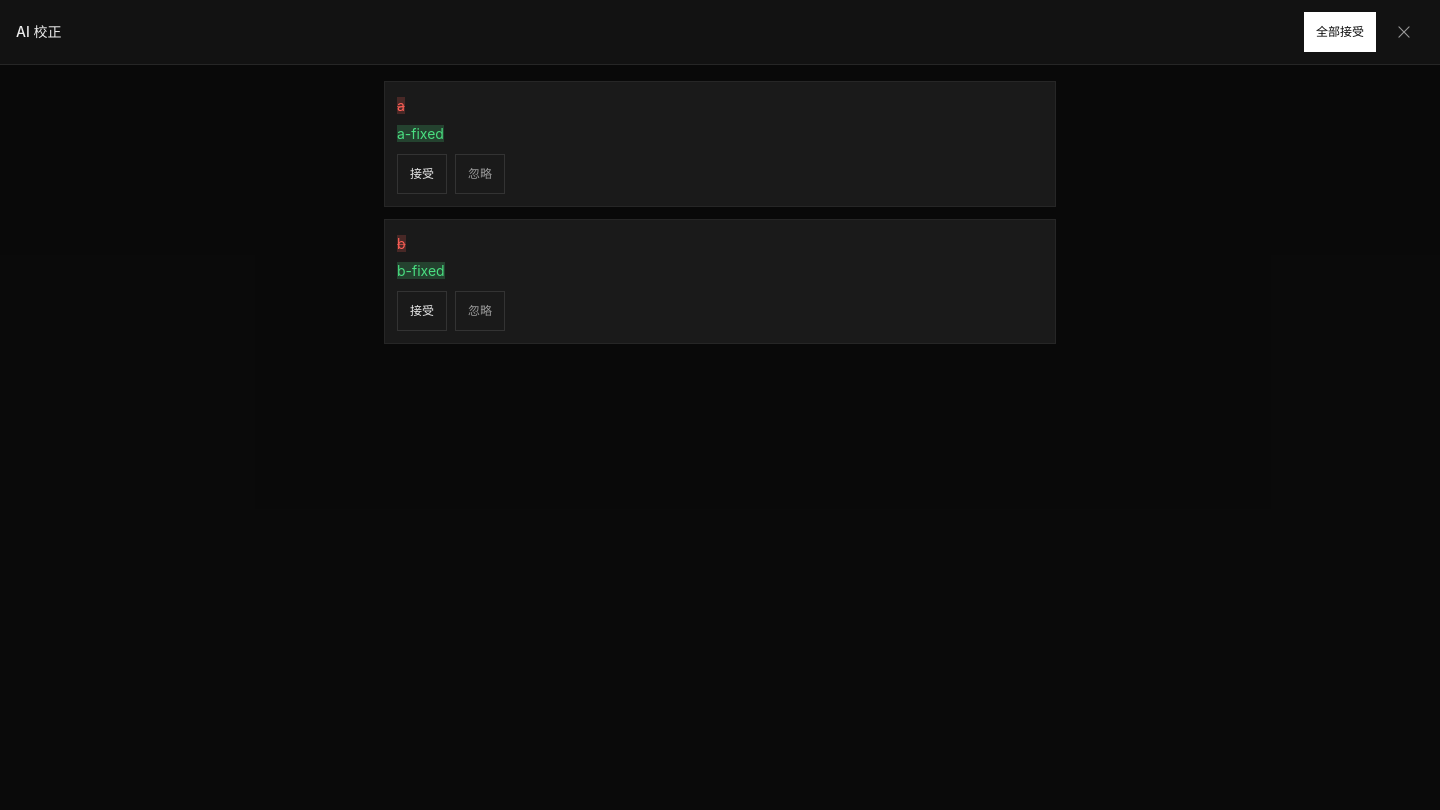
Test: CorrectionReview › 全部接受 accepts every pending row in one shot
The width and height of the screenshot is (1440, 810).
Click the button with test id "btn-correction-accept-all": (1340, 32) [1304,12,1376,52]
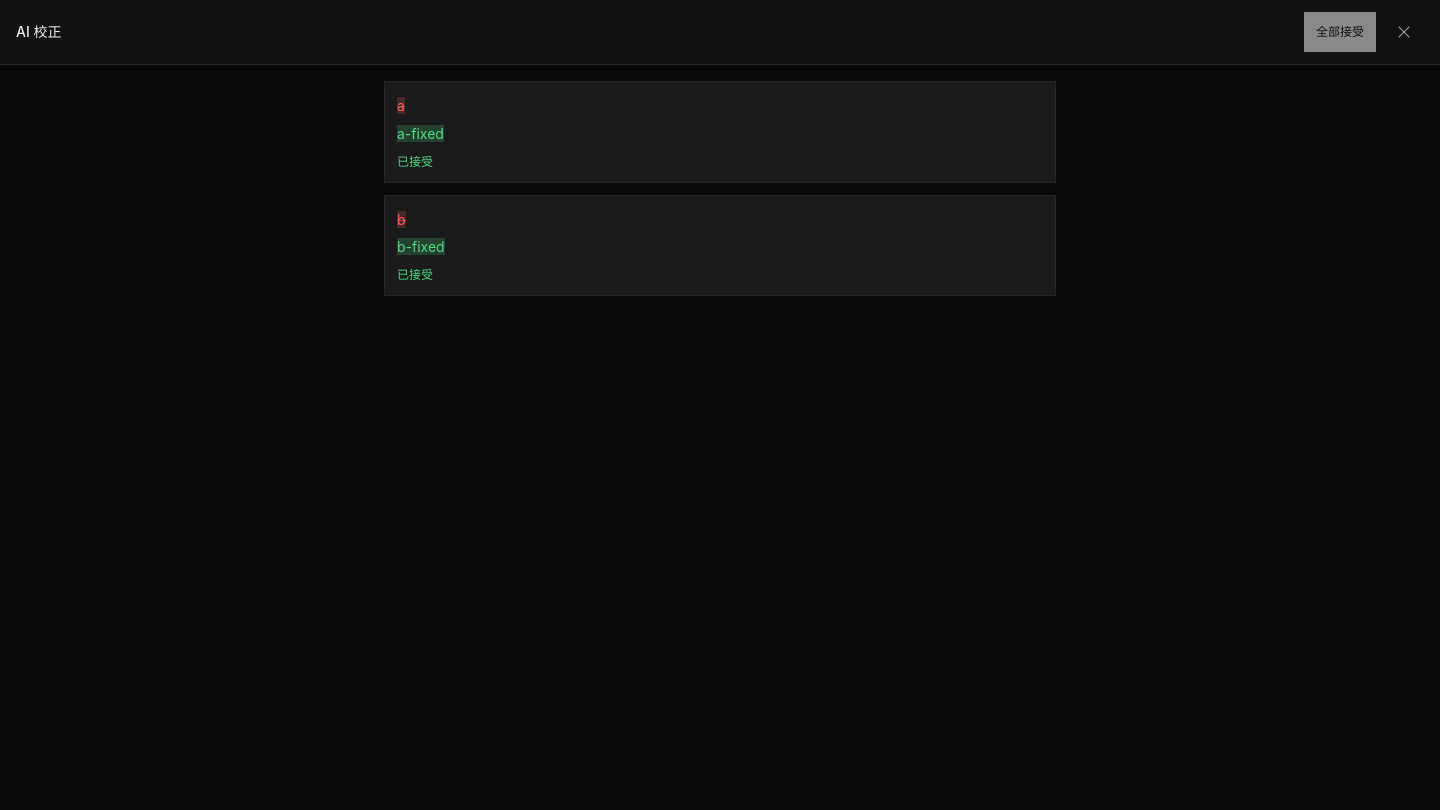
Expected: the text "a-fixed" is shown, [397,125,444,142]
Now the button with test id "btn-correction-accept-all" is disabled, box [1304,12,1376,52]
